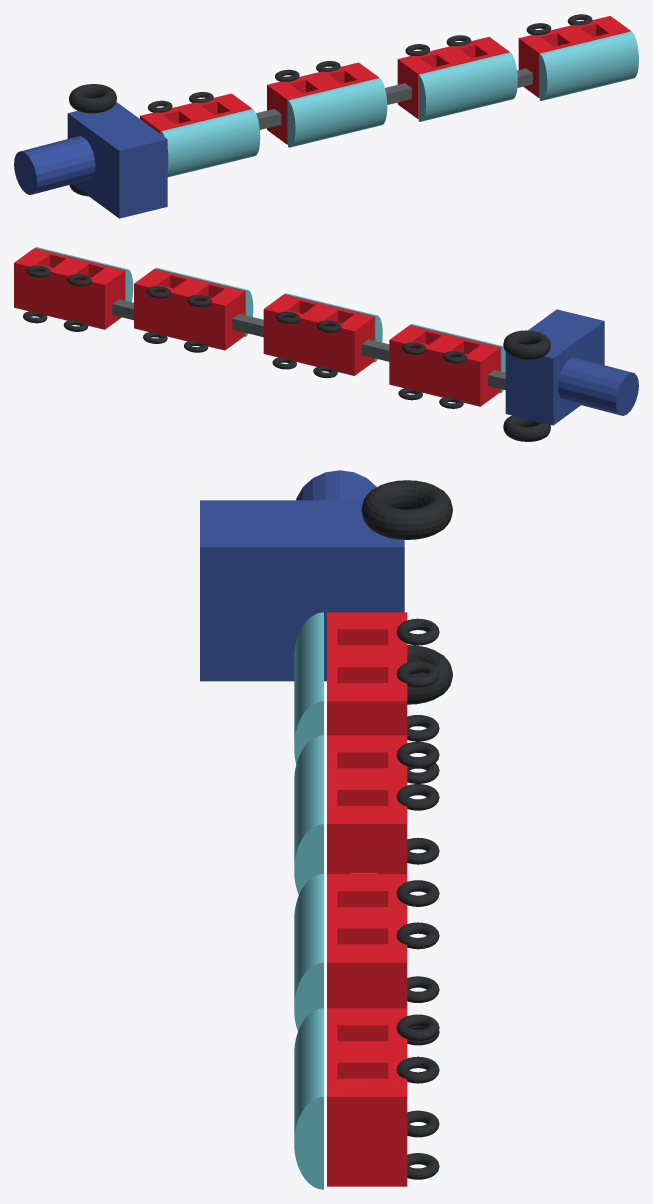
The model's file is tinker.obj.
3 views of the same model, one above another, from view 1: azimuth 30°, elevation 25°; view 2: azimuth 150°, elevation 25°; view 3: azimuth 270°, elevation 25° (orthographic). The views are drawn at different scales.
Parts seen in each view (by area): view 1: group_0_7720667, group_0_3888547, group_0_15277357, group_0_2829873, group_0_6383466; view 2: group_0_15277357, group_0_3888547, group_0_2829873, group_0_7720667, group_0_6383466; view 3: group_0_15277357, group_0_3888547, group_0_2829873, group_0_7720667.
Part boxes in pixels (x1,y1,x2,y2): group_0_7720667: [161, 31, 638, 177]; group_0_3888547: [14, 102, 167, 218]; group_0_15277357: [140, 16, 630, 144]; group_0_2829873: [69, 14, 592, 196]; group_0_6383466: [256, 68, 532, 129]; group_0_15277357: [14, 248, 500, 406]; group_0_3888547: [505, 309, 638, 425]; group_0_2829873: [23, 265, 550, 441]; group_0_7720667: [35, 247, 505, 392]; group_0_6383466: [112, 299, 505, 389]; group_0_15277357: [327, 612, 407, 1186]; group_0_3888547: [200, 470, 404, 681]; group_0_2829873: [361, 480, 452, 1179]; group_0_7720667: [294, 612, 323, 1189].
Size of the model in its own units: 512 by 81 by 94.
